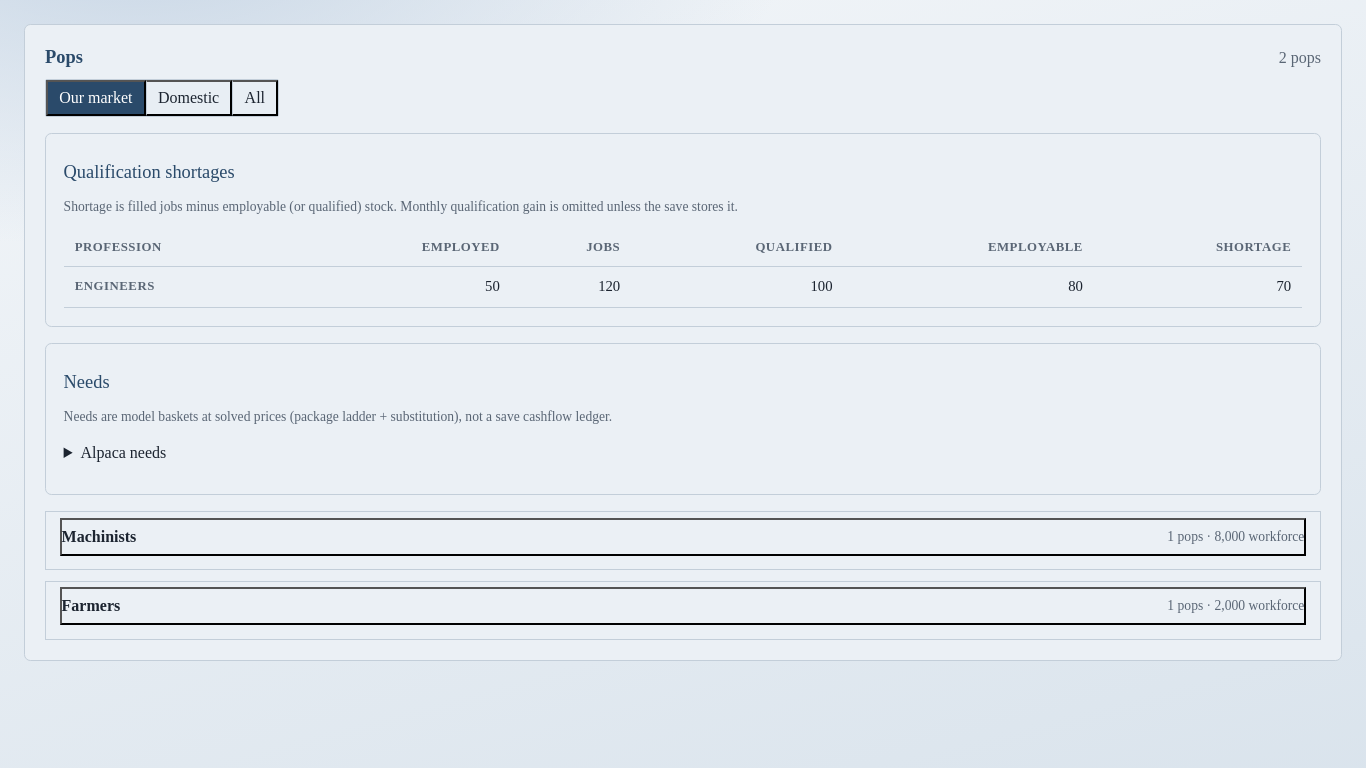
Test: PopsPane › hides foreign pops when Domestic is selected
Click the button "Domestic" at (189, 98), box top-left (146, 80), bottom-right (232, 116)
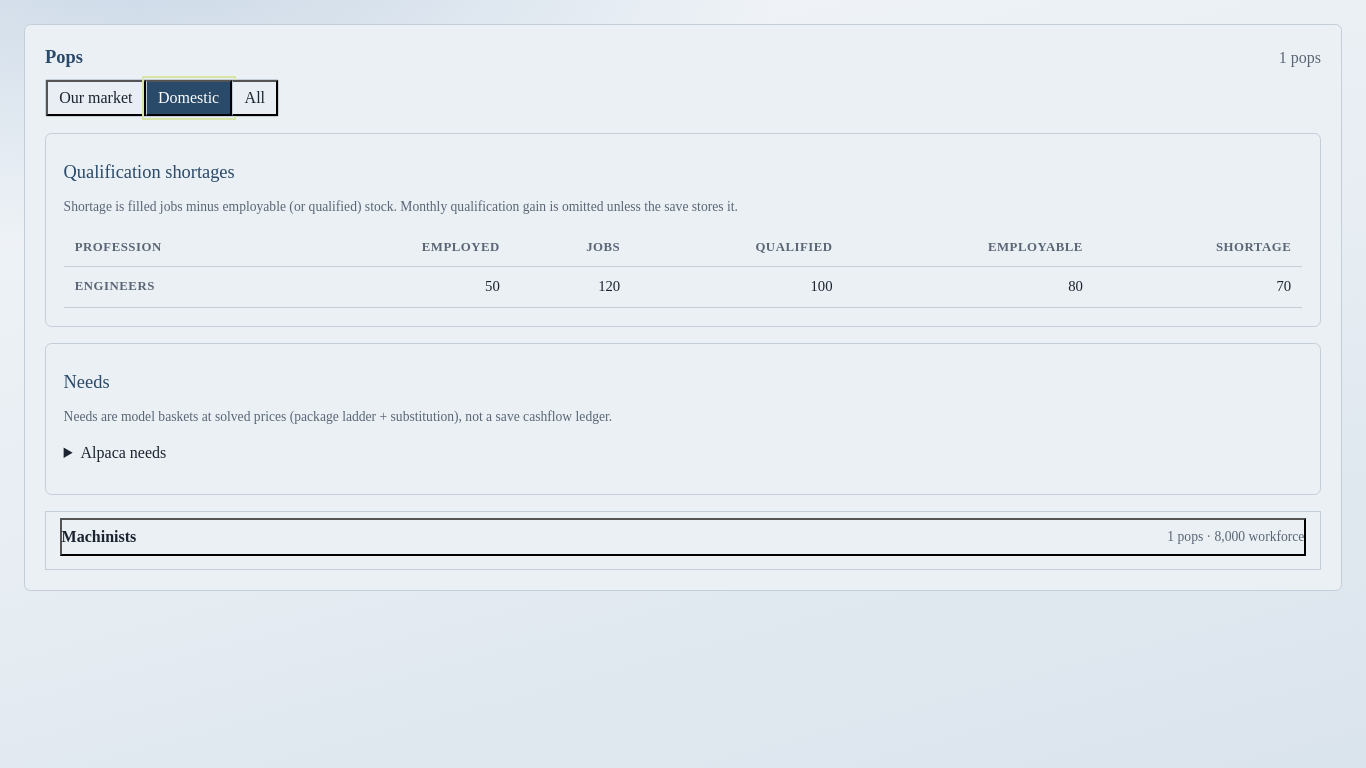
Expected: the button "Machinists 1 pops · 8,000 workforce" is shown, top-left (60, 518), bottom-right (1306, 556)
Expected: the button "Farmers" is gone
